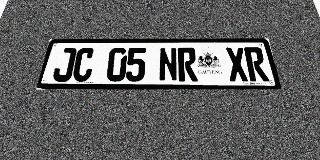0: (106, 48, 128, 82)
5: (125, 48, 146, 82)
C: (71, 48, 96, 82)
J: (51, 48, 77, 82)
N: (159, 47, 178, 82)
R: (243, 47, 270, 81), (177, 47, 198, 82)
X: (225, 47, 249, 81)
